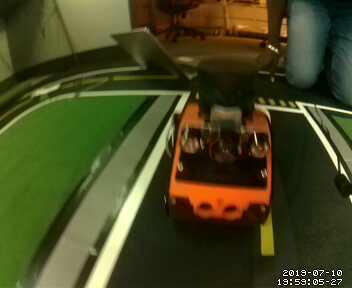pheeno: (167, 57, 277, 232)
